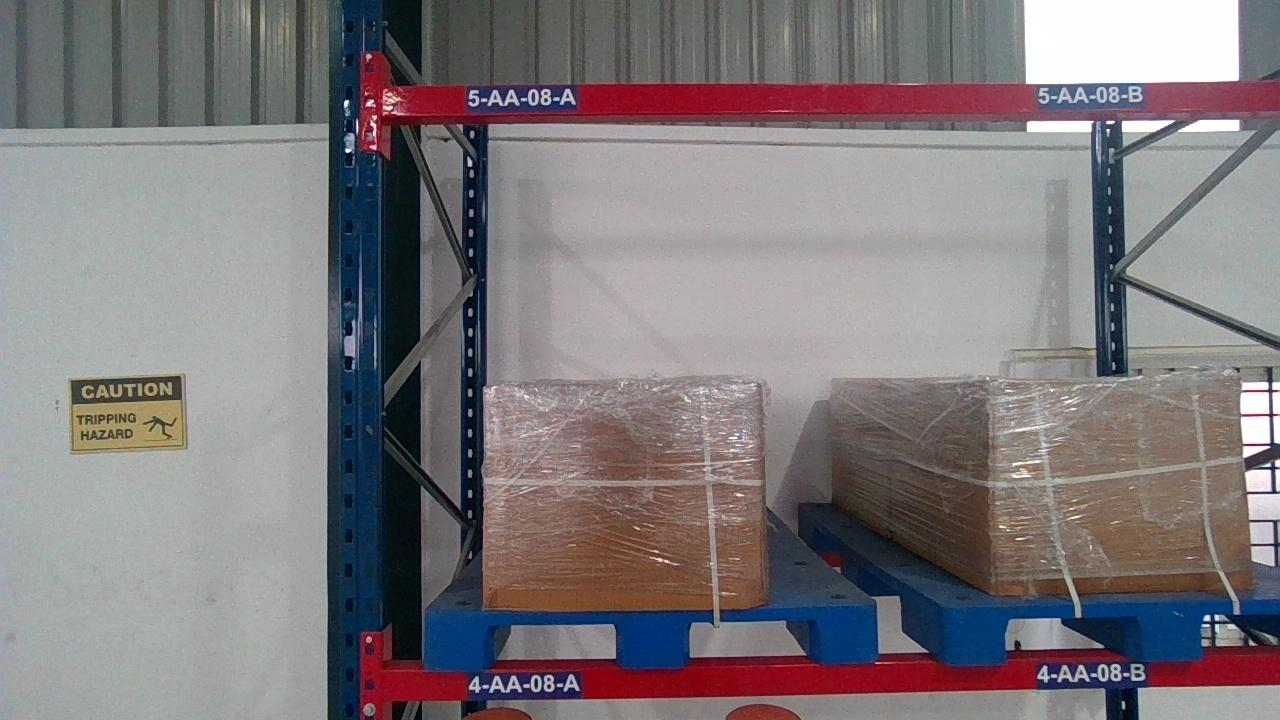h_rack: (383, 653, 1278, 701), (384, 80, 1278, 114)
small_pallet: (422, 607, 883, 666), (943, 601, 1279, 658)
